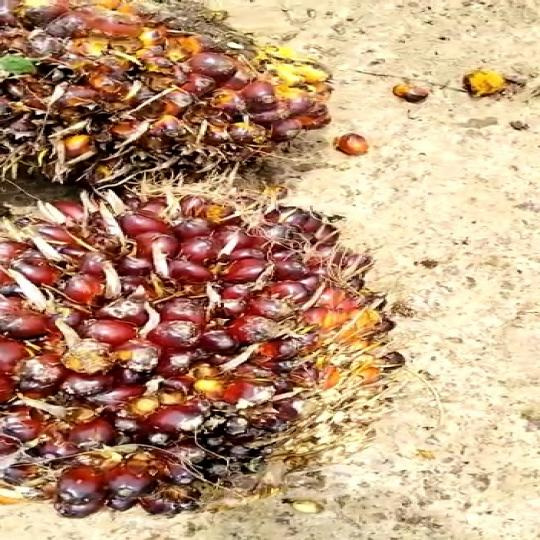masak: (0, 179, 380, 516), (0, 0, 348, 192)
